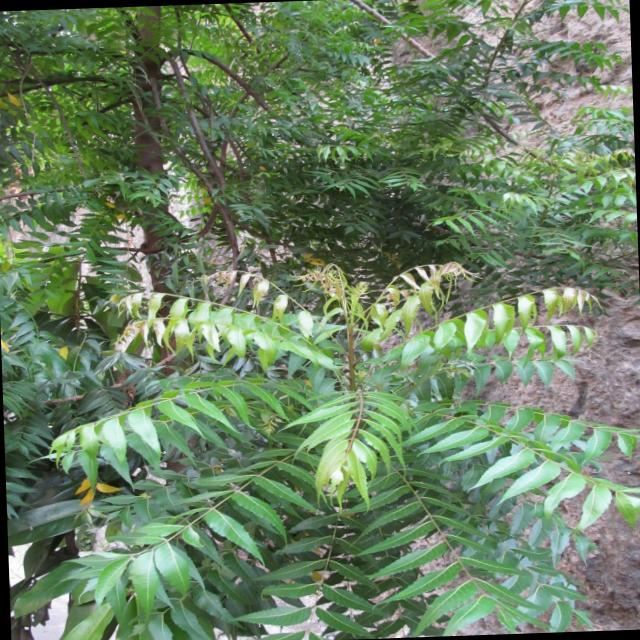Medicinal-Neem: (35, 244, 640, 640), (279, 0, 630, 284), (0, 7, 244, 304)
